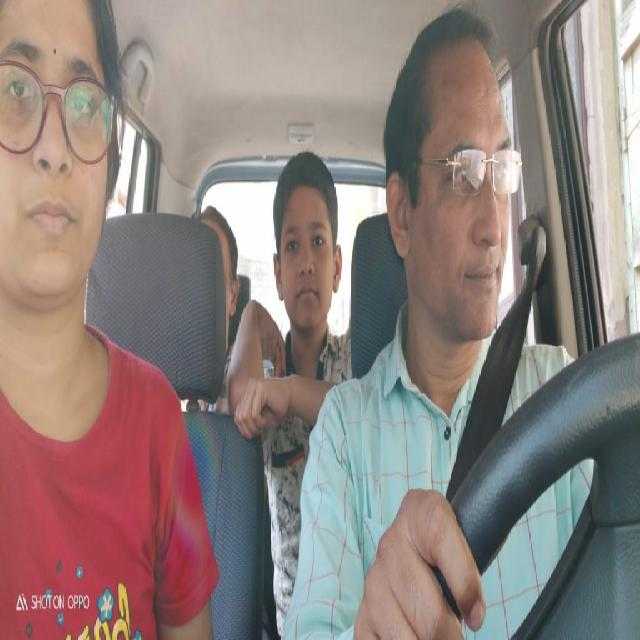LeftRight: (378, 9, 518, 341)
person: (0, 0, 127, 324), (272, 147, 345, 347), (195, 205, 243, 338)
